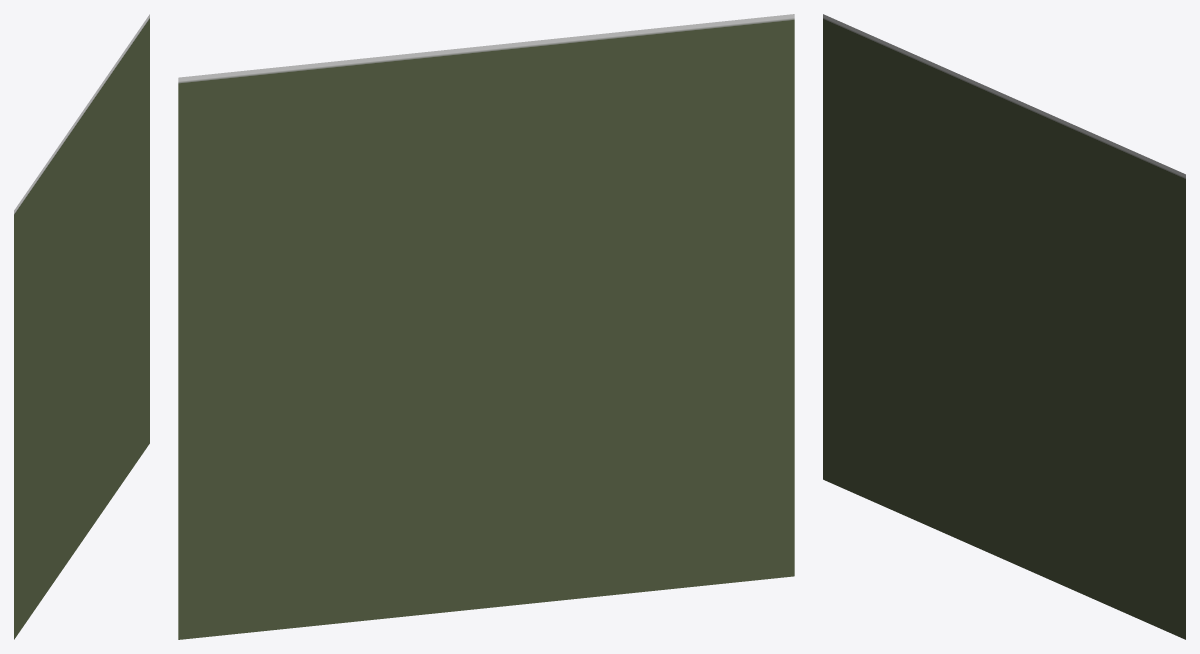
The model's file is github1.glb.
3 renders of one model, left to right at view 1: azimuth 30°, elevation 25°; view 2: azimuth 150°, elevation 25°; view 3: azimuth 270°, elevation 25°, orthographic. The views are drawn at different scales.
Visible parts, largest first — view 1: greengithub; view 2: greengithub; view 3: greengithub.
Boxes of the visible parts, bbox=[...] form: greengithub: bbox=[14, 14, 149, 639]; greengithub: bbox=[178, 14, 794, 639]; greengithub: bbox=[823, 14, 1185, 639].
Bounding box in the file's own units: 0.0967 × 0.1308 × 0.0924.
1 material, 1 textured.
